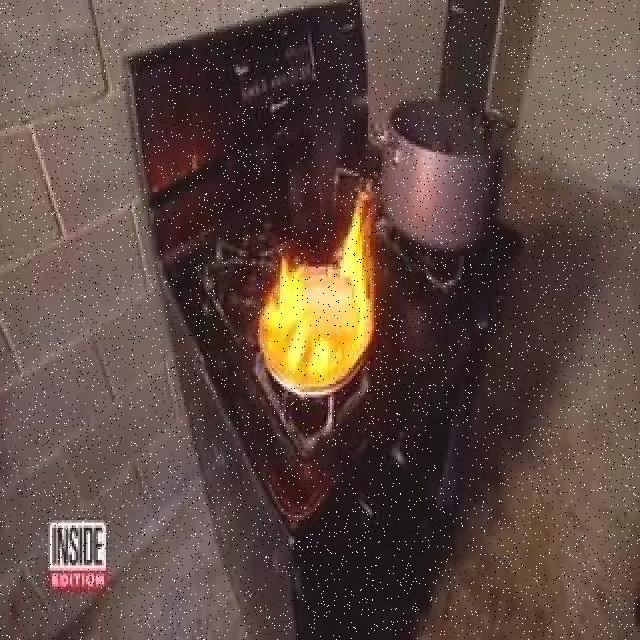fire: (266, 200, 374, 388)
